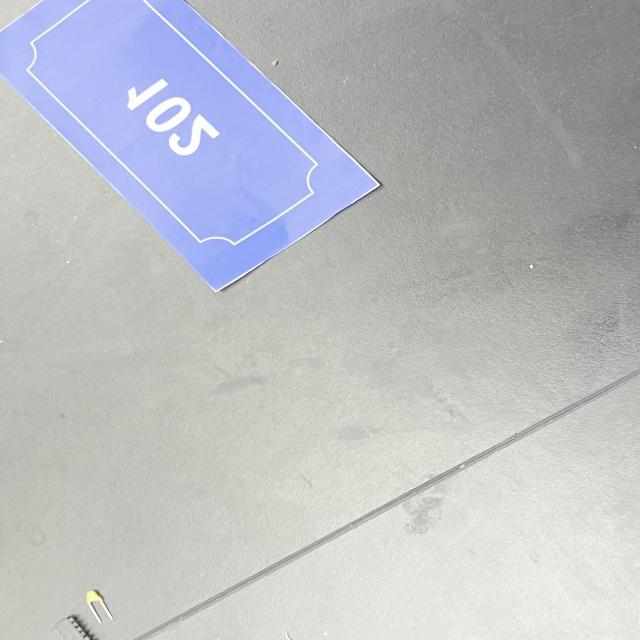Card: (0, 0, 429, 314)
